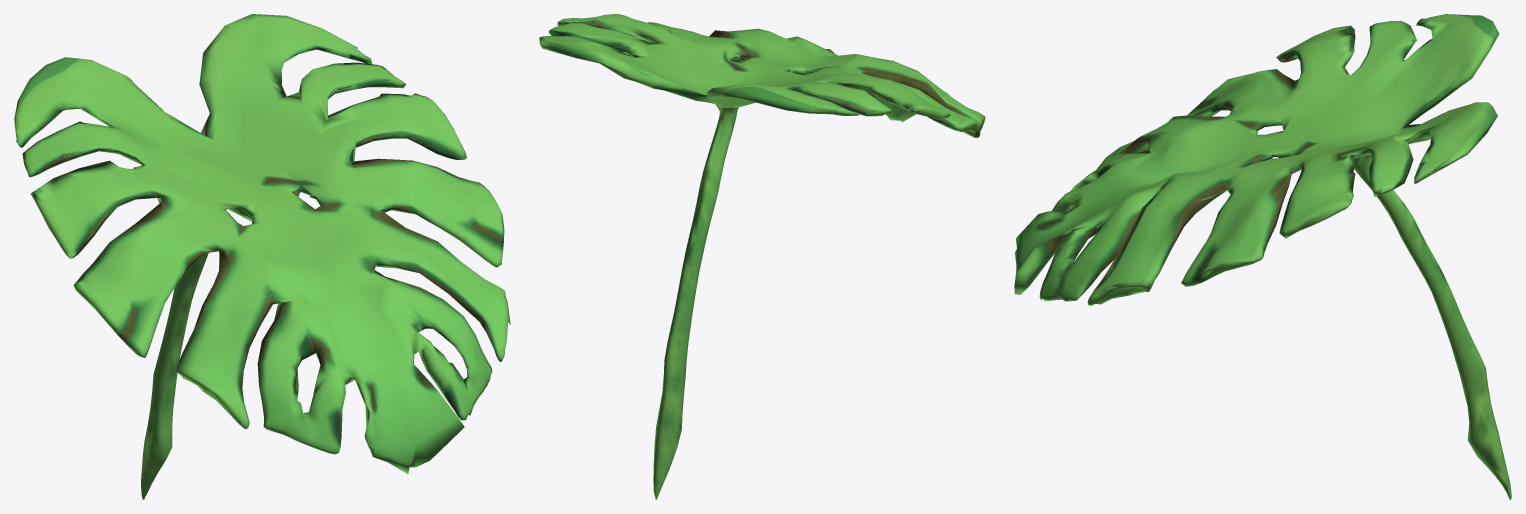
File: mon_neon_lime_v2.glb
3 renders of one model, left to right at view 1: azimuth 30°, elevation 25°; view 2: azimuth 150°, elevation 25°; view 3: azimuth 270°, elevation 25°, orthographic. The views are drawn at different scales.
Bounding box in the file's own units: 1.76 × 1.92 × 2.
1 material, 1 textured.
